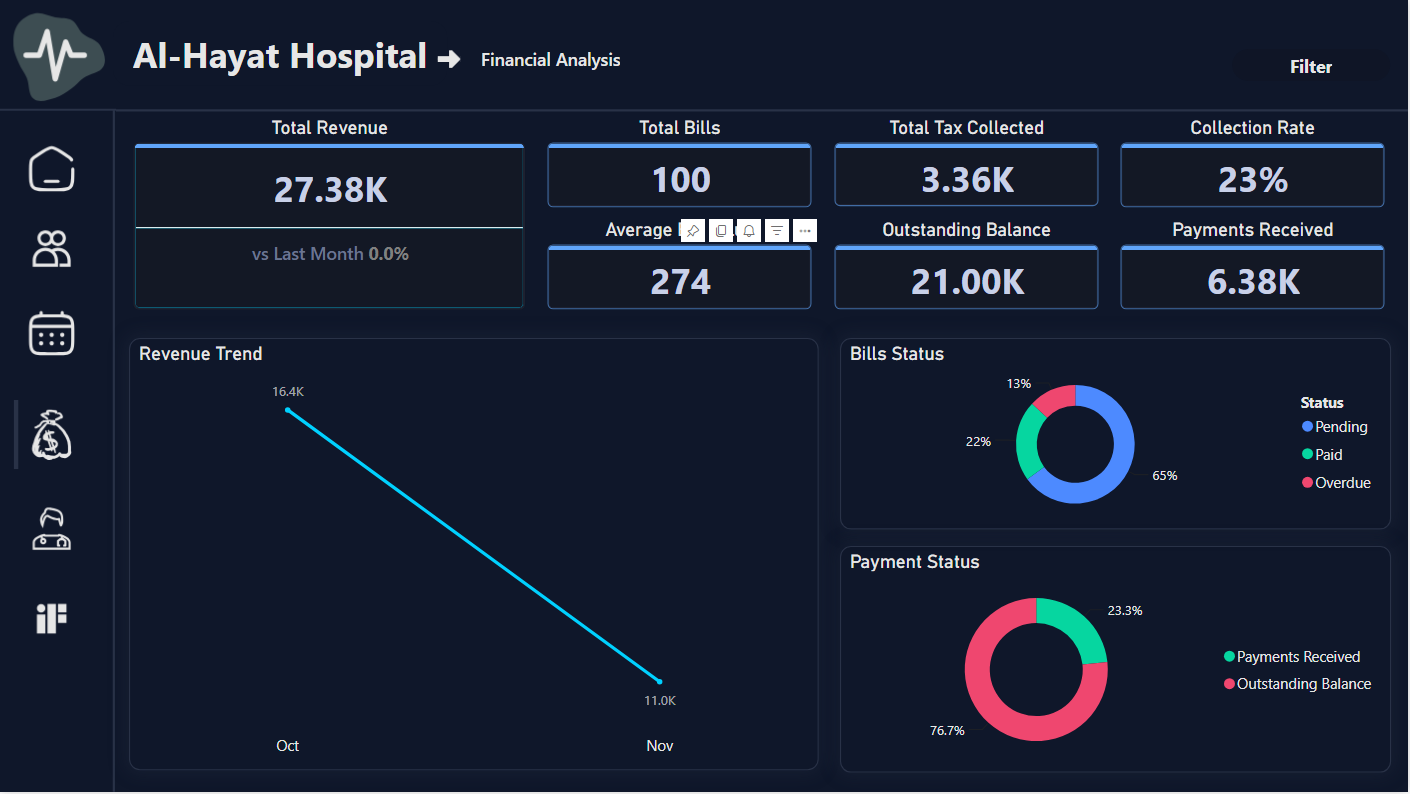

The page's visual inventory and layout, read from the dashboard file:
{"tool":"powerbi","page":{"name":"Financial Analysis","canvas":[1280,720],"ordinal":3},"visuals":[{"type":"shape","box":[105.8,74.2,1174.5,51.8],"z":0},{"type":"shape","box":[90,100.1,27,619.9],"z":1000},{"type":"shape","box":[0,88.9,105.8,21.4],"z":2000},{"type":"shape","box":[102.5,19,303.8,58.5],"z":3000},{"type":"actionButton","box":[0,0,104,100.4],"z":4000},{"type":"actionButton","box":[20.2,126,57.4,54],"z":5000},{"type":"actionButton","box":[20.2,198,57.4,54],"z":6000},{"type":"actionButton","box":[20.2,275.6,57.4,54],"z":7000},{"type":"actionButton","box":[20.2,367.9,57.4,54],"z":8000},{"type":"actionButton","box":[20.2,454.5,57.4,54],"z":9000},{"type":"actionButton","box":[20.2,535.5,57.4,54],"z":10000},{"type":"shape","box":[0,363.4,29.2,63],"z":11000},{"type":"cardVisual","title":"Total Revenue","fields":{"Data":["Measure.Total Revenue"]},"box":[116.1,105.3,366.6,181.5],"z":12000},{"type":"actionButton","box":[393.9,39.2,216,29.2],"z":13000},{"type":"cardVisual","title":"Total Bills","fields":{"Data":["Measure.Total Bills"]},"box":[492.9,105.3,250.4,88],"z":14000},{"type":"cardVisual","title":"Collection Rate","fields":{"Data":["Measure.Collection Rate"]},"box":[1013.8,105.3,250.4,88.3],"z":15000},{"type":"cardVisual","title":"Average Bill Value","fields":{"Data":["Measure.Average Bill Value"]},"box":[492.8,198.4,250.4,88.3],"z":16000},{"type":"donutChart","title":"Bills Status","fields":{"Category":["Bills.Status"],"Y":["Measure.Total Bills"]},"box":[763.4,307.3,500.9,174.2],"z":17000},{"type":"cardVisual","title":"Outstanding Balance","fields":{"Data":["Measure.Outstanding Balance"]},"box":[753.3,198.4,250.4,88.3],"z":18000},{"type":"cardVisual","title":"Total Tax Collected","fields":{"Data":["Measure.Total Tax Collected"]},"box":[753.4,105.3,250.2,87.6],"z":19000},{"type":"cardVisual","title":"Payments Received","fields":{"Data":["Measure.Payments Received"]},"box":[1013.8,198.4,250.4,88.3],"z":20000},{"type":"donutChart","title":"Payment Status","fields":{"Y":["Measure.Payments Received","Measure.Outstanding Balance"]},"box":[763.4,496,500.9,205.7],"z":21000},{"type":"actionButton","box":[1120.3,44.8,144,29],"z":23000},{"type":"lineChart","title":"Revenue Trend","fields":{"Y":["Measure.Total Revenue"],"Category":["Calendar.Month"]},"box":[117.4,307.3,626.7,393.2],"z":24000}]}

Visuals, with their boxes in screenshot pixels (x1, y1, x2, y2), scaled from the page's 1280x720 canvas onto the 1410x794 screenshot:
shape: [left=117, top=82, right=1409, bottom=139]
shape: [left=99, top=110, right=129, bottom=793]
shape: [left=0, top=98, right=117, bottom=122]
shape: [left=113, top=21, right=448, bottom=85]
actionButton: [left=0, top=0, right=115, bottom=111]
actionButton: [left=22, top=139, right=85, bottom=198]
actionButton: [left=22, top=218, right=85, bottom=278]
actionButton: [left=22, top=304, right=85, bottom=363]
actionButton: [left=22, top=406, right=85, bottom=465]
actionButton: [left=22, top=501, right=85, bottom=561]
actionButton: [left=22, top=591, right=85, bottom=650]
shape: [left=0, top=401, right=32, bottom=470]
"Total Revenue" cardVisual: [left=128, top=116, right=532, bottom=316]
actionButton: [left=434, top=43, right=672, bottom=75]
"Total Bills" cardVisual: [left=543, top=116, right=819, bottom=213]
"Collection Rate" cardVisual: [left=1117, top=116, right=1393, bottom=213]
"Average Bill Value" cardVisual: [left=543, top=219, right=819, bottom=316]
"Bills Status" donutChart: [left=841, top=339, right=1393, bottom=531]
"Outstanding Balance" cardVisual: [left=830, top=219, right=1106, bottom=316]
"Total Tax Collected" cardVisual: [left=830, top=116, right=1106, bottom=213]
"Payments Received" cardVisual: [left=1117, top=219, right=1393, bottom=316]
"Payment Status" donutChart: [left=841, top=547, right=1393, bottom=774]
actionButton: [left=1234, top=49, right=1393, bottom=81]
"Revenue Trend" lineChart: [left=129, top=339, right=820, bottom=772]
